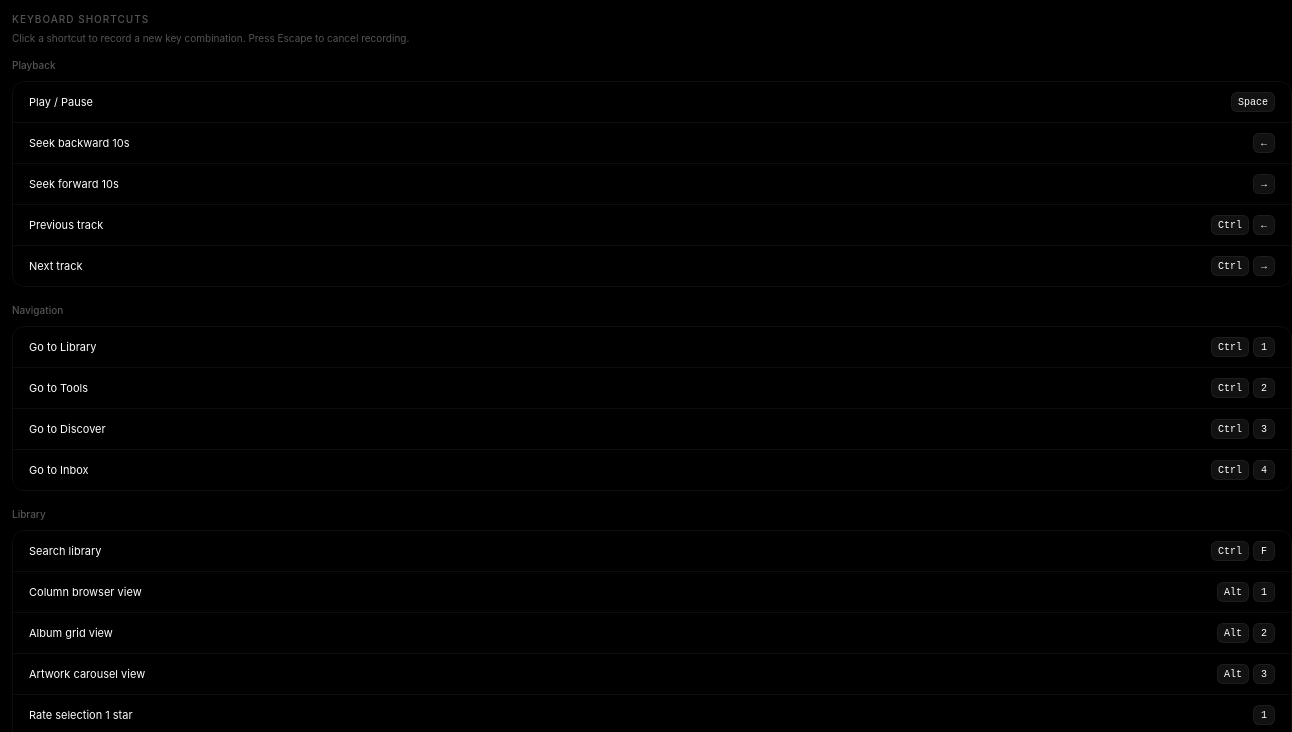
Scenario: ShortcutsSection › rejects a binding already used by another action
This screenshot has width=1292, height=732.
Step 1. Click the button with test id "shortcut-nextTrack" → (1239, 266), box [1203,256,1275,276]
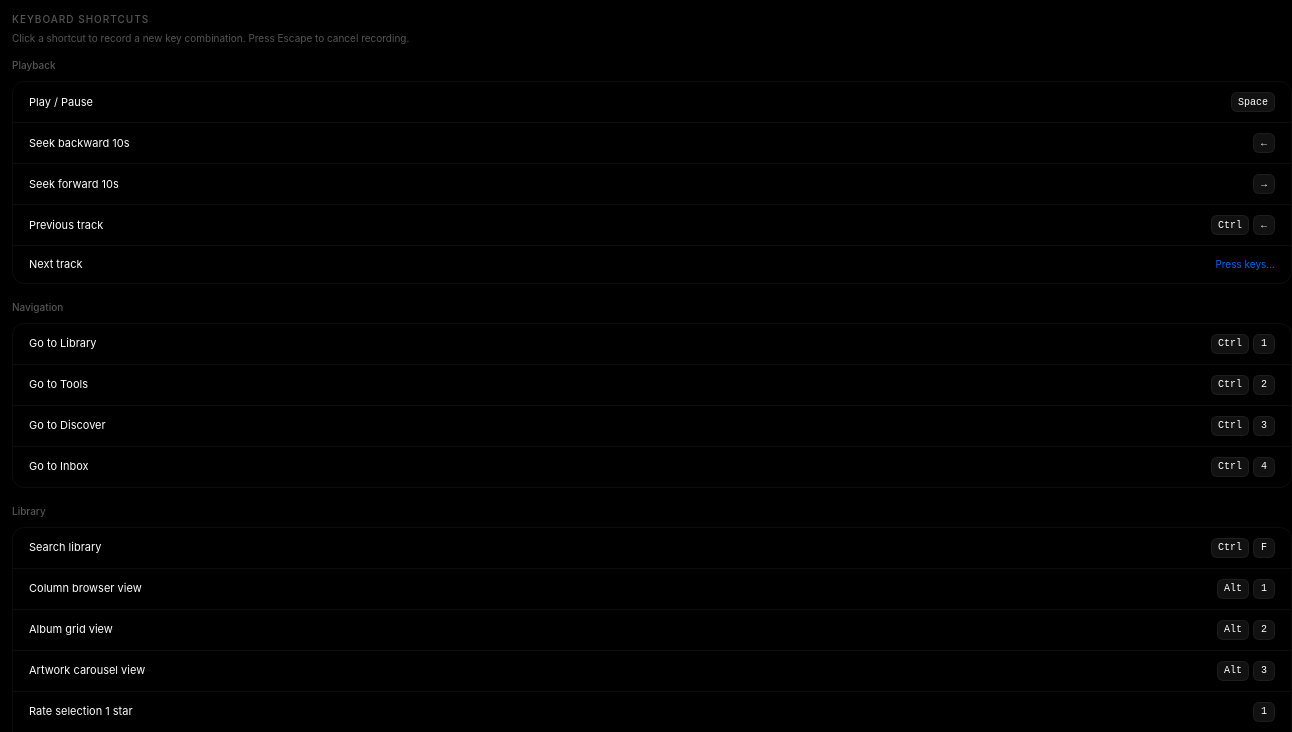
Space is the default play/pause binding
Step 2. Press Space
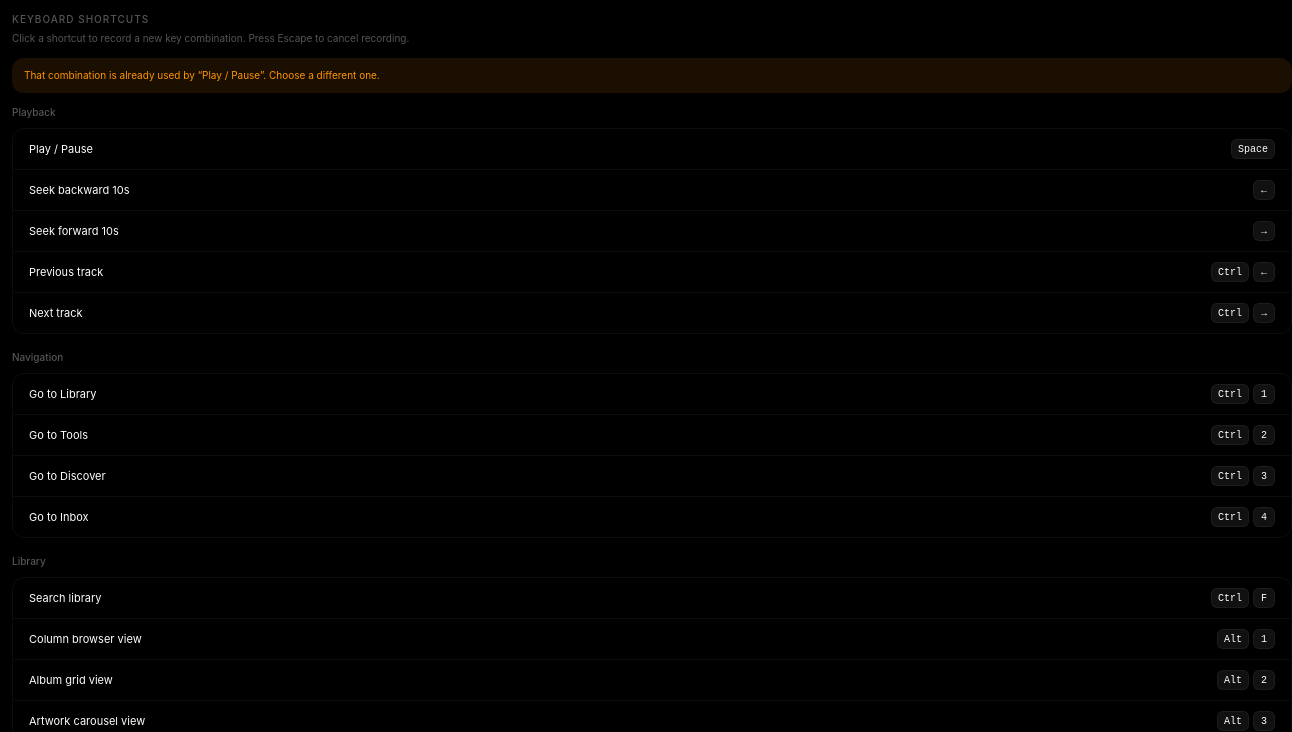
Expected: the message shows "already used", [24,69,202,81]
